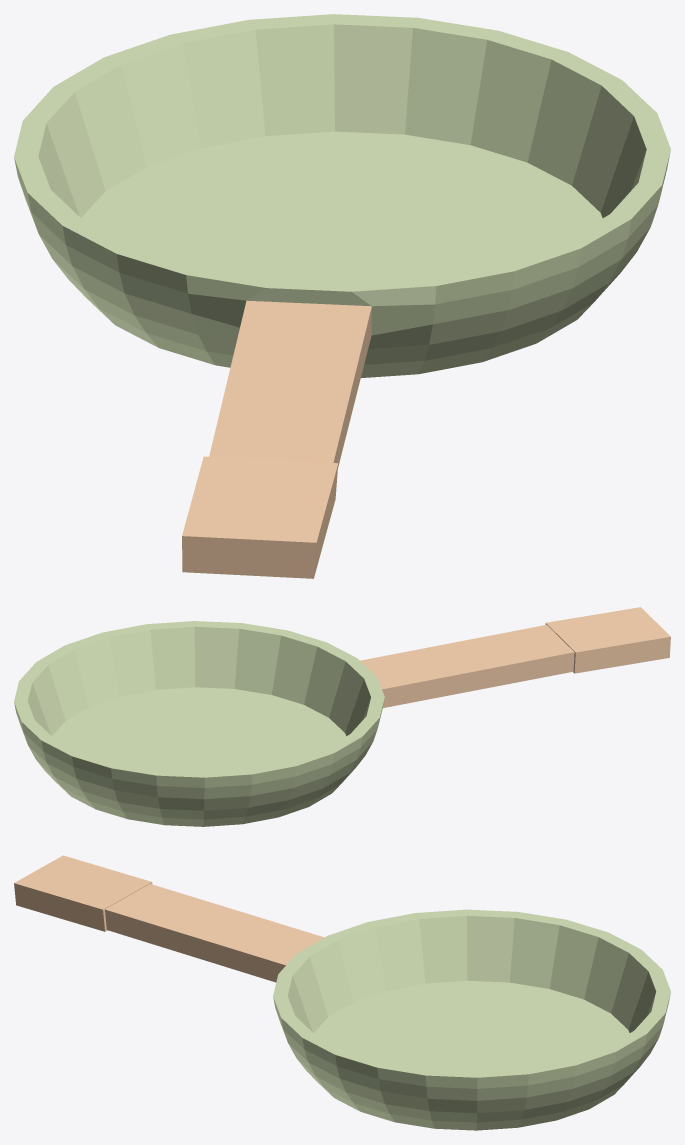
File: sarten.fbx
3 views of the same model, one above another, from view 1: azimuth 30°, elevation 25°; view 2: azimuth 150°, elevation 25°; view 3: azimuth 270°, elevation 25° (orthographic). The views are drawn at different scales.
Visible parts, largest first — view 1: Frying pan; view 2: Frying pan; view 3: Frying pan.
Part boxes in pixels (x1,y1,x2,y2): Frying pan: (14, 14, 670, 578); Frying pan: (14, 607, 670, 826); Frying pan: (14, 855, 670, 1130).
Bounding box in the file's own units: 99 × 13.68 × 119.
